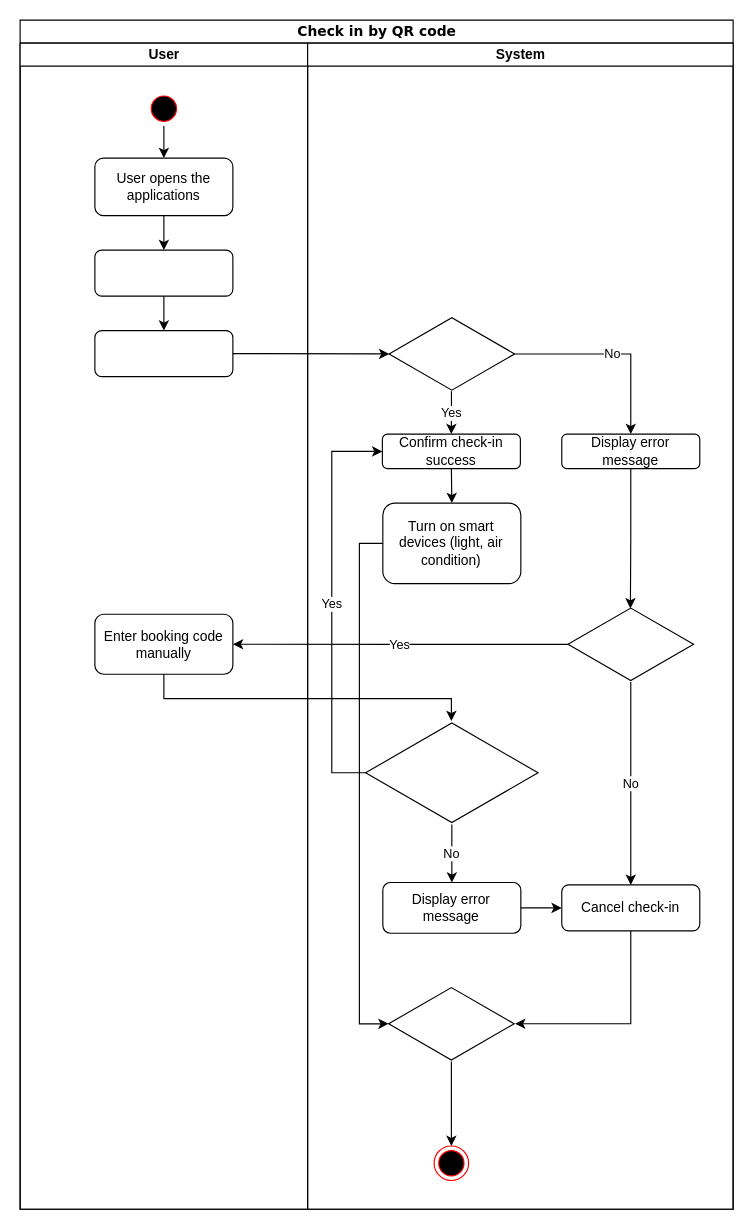
This 753x1229 diagram has some shape labels left out. Here are the shapes that lost their labels. From the top down, the box of each, then its label:
(94, 249, 233, 296): Selects "Check in"
(94, 329, 233, 377): Scans QR code
(388, 315, 515, 392): Is QR code valid?
(567, 605, 694, 682): Allow manual check-in?
(364, 720, 538, 825): Is booking code valid?
